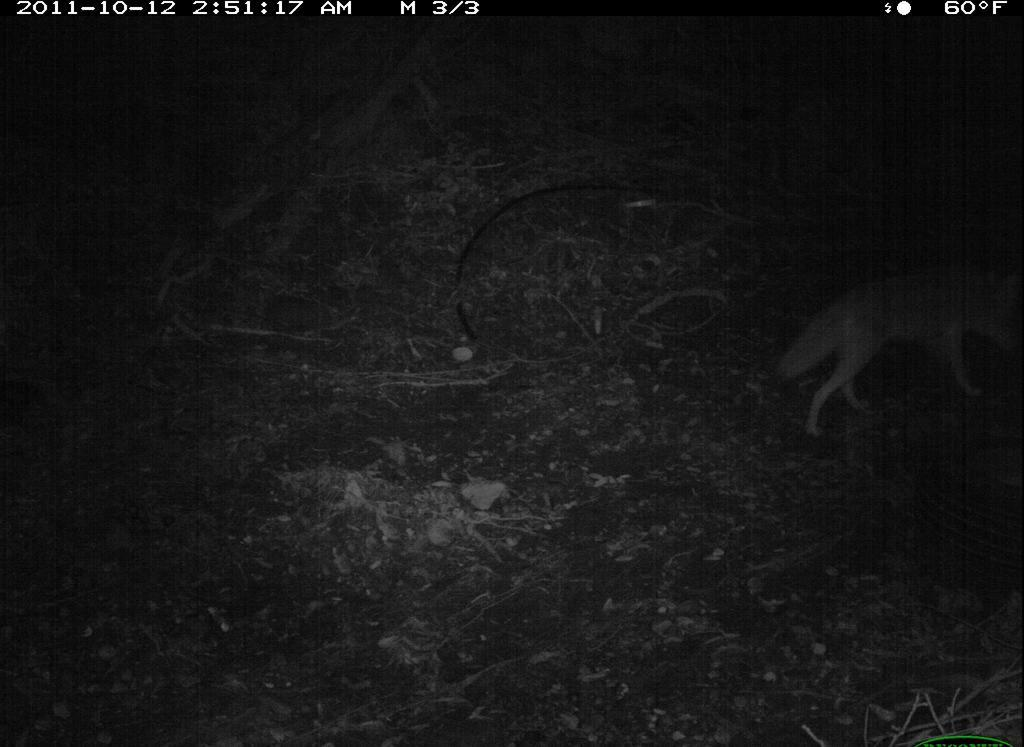coyote: (780, 240, 1019, 446)
